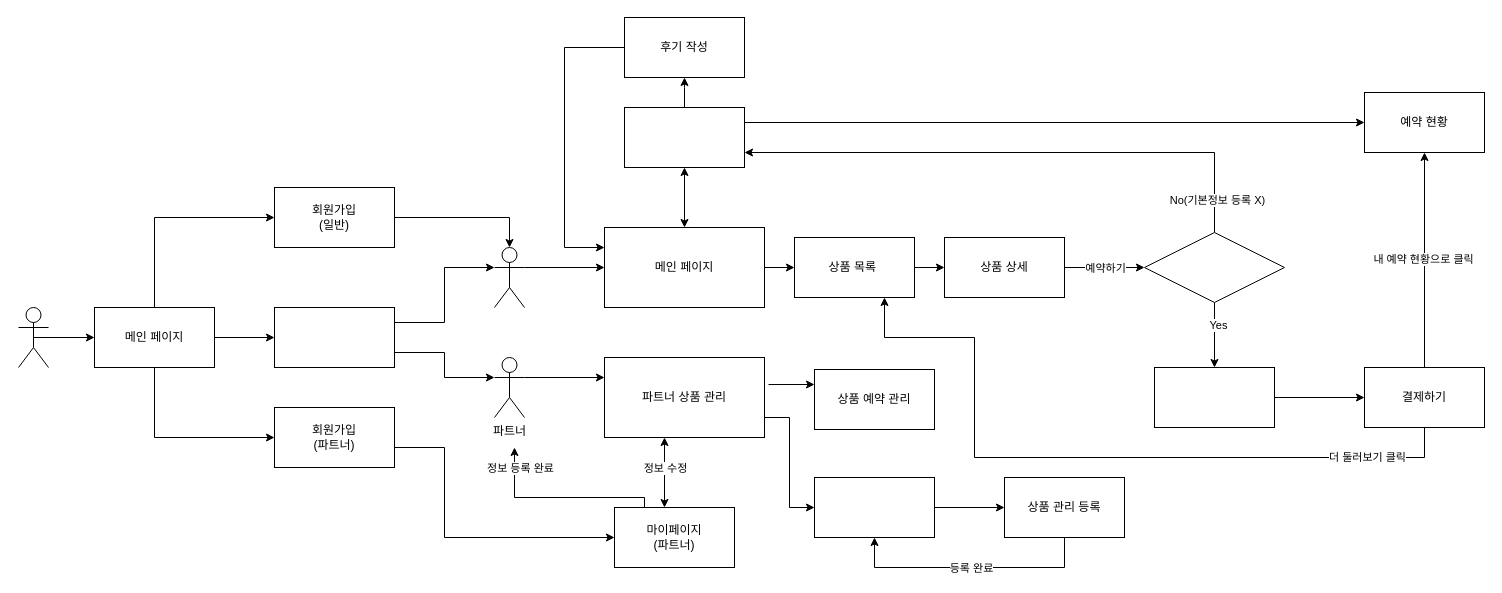
Image size: 1502x593. Some labels were removed from this diagram. The shapes that lost their labels are listed below. From the top down, each one's centre as x and y in pixels, then its label:
pixel 684 137: 마이페이지 (일반)
pixel 509 277: 일반 사용자
pixel 1214 267: 기본정보 등록 여부
pixel 33 337: 비회원
pixel 334 337: 로그인
pixel 1214 397: 상품 예약
pixel 874 507: 상품 관리 목록
